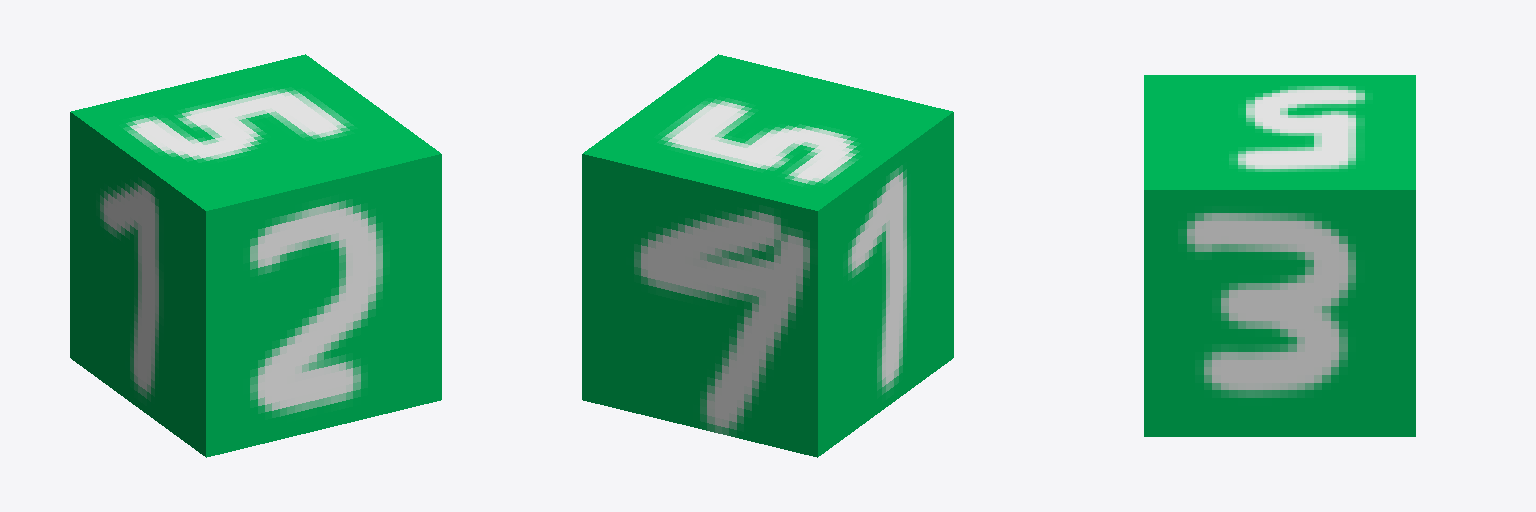
The picture shows the model from 3 angles: view 1: azimuth 30°, elevation 25°; view 2: azimuth 150°, elevation 25°; view 3: azimuth 270°, elevation 25°; orthographic projection.
Visible parts, largest first — view 1: Cube.001; view 2: Cube.001; view 3: Cube.001.
Part boxes in pixels (x1,y1,x2,y2): Cube.001: (70, 54, 441, 457); Cube.001: (582, 54, 953, 457); Cube.001: (1144, 75, 1415, 436).
Size of the model in its own units: 2 by 2 by 2.
1 materials, 1 textured.